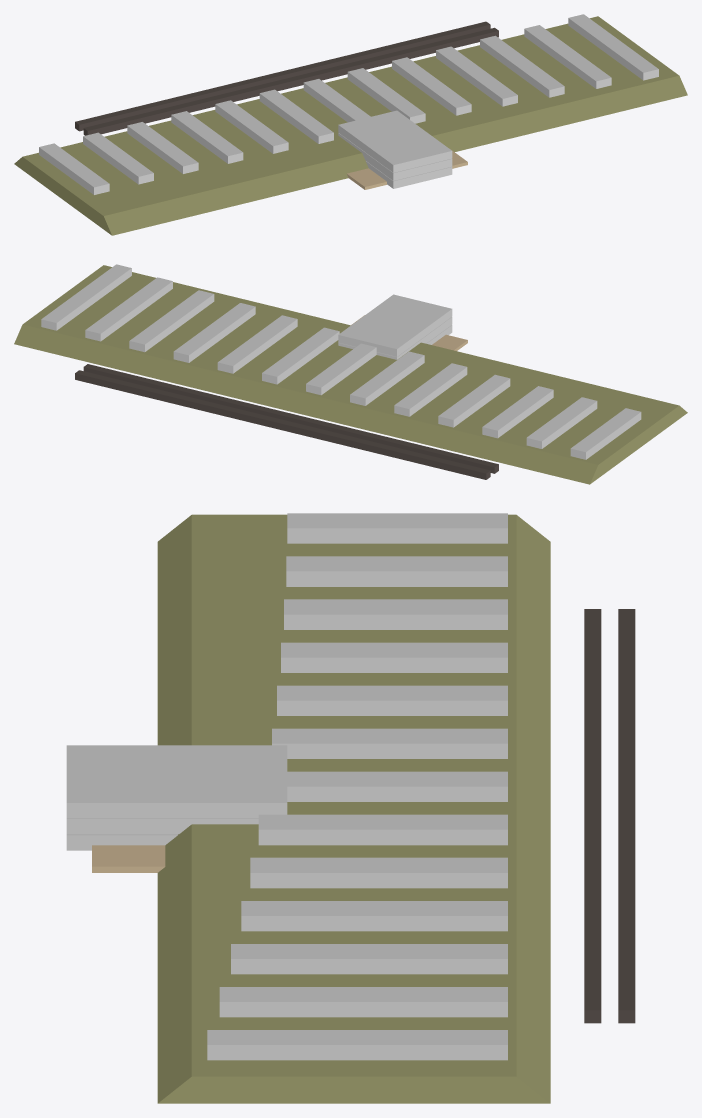
Rendered from SM_Via_DesvioDer_v3_Obra_LOD1.fbx.
3 renders of one model, top to bottom at view 1: azimuth 30°, elevation 25°; view 2: azimuth 150°, elevation 25°; view 3: azimuth 270°, elevation 25°, orthographic. The views are drawn at different scales.
Visible parts, largest first — view 1: SM_via_trazado_v33_LOD1; view 2: SM_via_trazado_v33_LOD1; view 3: SM_via_trazado_v33_LOD1.
Part boxes in pixels (left/top/right/bottom): SM_via_trazado_v33_LOD1: left=14, top=14, right=687, bottom=235; SM_via_trazado_v33_LOD1: left=14, top=264, right=687, bottom=484; SM_via_trazado_v33_LOD1: left=66, top=513, right=635, bottom=1103.
Size of the model in its own units: 15.66 by 0.63 by 6.7.
